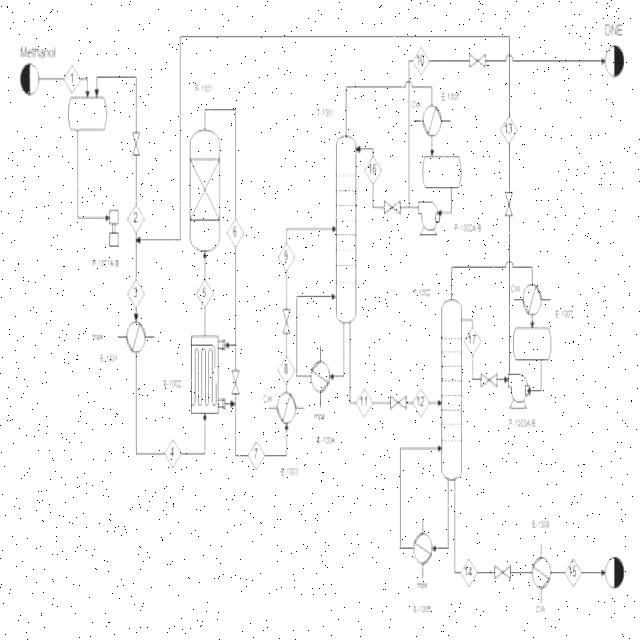Centrifugal Pump: (416, 198, 444, 242), (510, 374, 532, 418)
Gate Valve: (488, 554, 516, 588), (466, 43, 490, 77), (128, 121, 146, 161), (379, 192, 402, 222), (387, 388, 407, 414), (280, 305, 294, 338), (502, 184, 514, 218), (229, 364, 241, 395), (482, 367, 496, 392)
